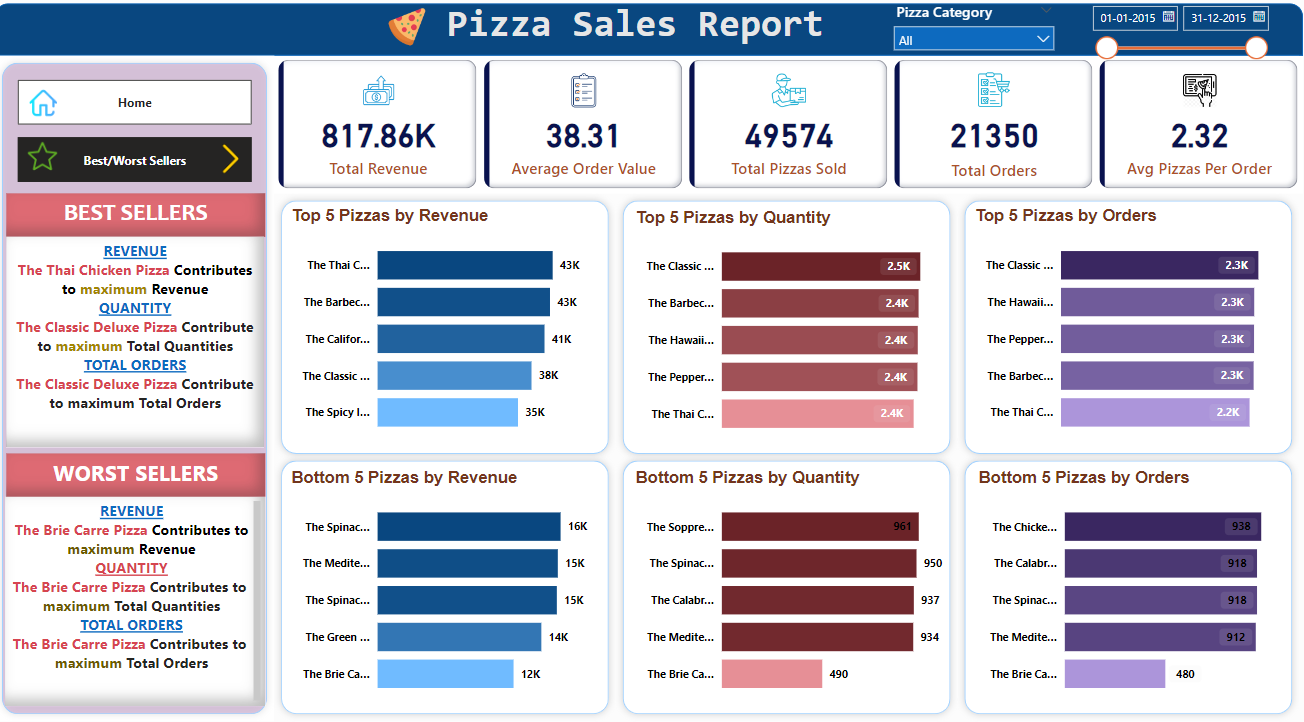

What the dashboard file says about the page in this screenshot:
{"tool":"powerbi","page":{"name":"Best/Worst Sellers","canvas":[1500,820],"ordinal":1},"visuals":[{"type":"cardVisual","fields":{"Data":["pizza_sales.Total Revenue","pizza_sales.Average Order Value","pizza_sales.Total Pizzas Sold","pizza_sales.Total Orders","pizza_sales.Avg Pizzas Per Order"]},"box":[332.9,65.7,1152.9,154.3],"z":0},{"type":"shape","box":[20,7.1,1465.7,58.6],"z":1000},{"type":"textbox","box":[521.3,0,463.9,65.6],"z":2000},{"type":"image","box":[442.6,6.6,77,52.5],"z":3000},{"type":"shape","box":[332.9,220,383,300],"z":4000},{"type":"shape","box":[20,65.7,312.9,745.7],"z":5000},{"type":"textbox","box":[32.9,220,290,48.6],"z":6000},{"type":"textbox","box":[32.9,511.4,290,48.6],"z":7000},{"type":"textbox","box":[32.9,268.6,288.6,235.7],"z":8000},{"type":"textbox","box":[31.4,560,291.4,234.3],"z":9000},{"type":"slicer","fields":{"Values":["pizza_sales.order_date"]},"box":[1237.1,0,217.1,75.7],"z":10000},{"type":"slicer","fields":{"Values":["pizza_sales.pizza_category"]},"box":[1017.1,0,200,65.7],"z":11000},{"type":"shape","box":[332.9,511.4,383,300],"z":12000},{"type":"shape","box":[715.7,220,383,300],"z":13000},{"type":"shape","box":[1098.6,220,383,300],"z":14000},{"type":"shape","box":[715.7,511.4,383,300],"z":15000},{"type":"shape","box":[1098.6,511.4,383,300],"z":16000},{"type":"clusteredBarChart","title":"Top 5 Pizzas by Revenue","fields":{"Y":["pizza_sales.Total Revenue"],"Category":["pizza_sales.pizza_name"]},"box":[347.1,234.3,354.3,270],"z":17000},{"type":"clusteredBarChart","title":"Bottom 5 Pizzas by Revenue","fields":{"Y":["pizza_sales.Total Revenue"],"Category":["pizza_sales.pizza_name"]},"box":[347.1,527.1,354.3,270],"z":18000},{"type":"clusteredBarChart","title":"Top 5 Pizzas by Quantity","fields":{"Category":["pizza_sales.pizza_name"],"Y":["Sum(pizza_sales.quantity)"]},"box":[732.9,235.7,354.3,270],"z":19000},{"type":"clusteredBarChart","title":"Top 5 Pizzas by Orders","fields":{"Category":["pizza_sales.pizza_name"],"Y":["pizza_sales.Total Orders"]},"box":[1112.9,234.3,354.3,270],"z":20000},{"type":"clusteredBarChart","title":"Bottom 5 Pizzas by Quantity","fields":{"Category":["pizza_sales.pizza_name"],"Y":["Sum(pizza_sales.quantity)"]},"box":[732.9,527.1,354.3,270],"z":21000},{"type":"clusteredBarChart","title":"Bottom 5 Pizzas by Orders","fields":{"Y":["pizza_sales.Total Orders"],"Category":["pizza_sales.pizza_name"]},"box":[1117.1,527.1,354.3,270],"z":22000},{"type":"pageNavigator","box":[45.7,157.1,262.9,50],"z":22001},{"type":"pageNavigator","box":[45.7,92.9,262.9,50],"z":22002},{"type":"image","box":[260,160,48.6,42.9],"z":22003},{"type":"image","box":[54.3,97.1,40,42.9],"z":22004},{"type":"image","box":[51.4,157.1,44.3,42.9],"z":22005}]}

Visuals, with their boxes in screenshot pixels (x1, y1, x2, y2), scaled from the page's 1500x820 canvas onto the 1304x722 screenshot:
cardVisual - pizza_sales.Total Revenue x pizza_sales.Average Order Value: bbox=[289, 58, 1292, 194]
shape: bbox=[17, 6, 1292, 58]
textbox: bbox=[453, 0, 856, 58]
image: bbox=[385, 6, 452, 52]
shape: bbox=[289, 194, 622, 458]
shape: bbox=[17, 58, 289, 714]
textbox: bbox=[29, 194, 281, 236]
textbox: bbox=[29, 450, 281, 493]
textbox: bbox=[29, 236, 279, 444]
textbox: bbox=[27, 493, 281, 699]
slicer - pizza_sales.order_date: bbox=[1075, 0, 1264, 67]
slicer - pizza_sales.pizza_category: bbox=[884, 0, 1058, 58]
shape: bbox=[289, 450, 622, 714]
shape: bbox=[622, 194, 955, 458]
shape: bbox=[955, 194, 1288, 458]
shape: bbox=[622, 450, 955, 714]
shape: bbox=[955, 450, 1288, 714]
"Top 5 Pizzas by Revenue" clusteredBarChart: bbox=[302, 206, 610, 444]
"Bottom 5 Pizzas by Revenue" clusteredBarChart: bbox=[302, 464, 610, 702]
"Top 5 Pizzas by Quantity" clusteredBarChart: bbox=[637, 208, 945, 445]
"Top 5 Pizzas by Orders" clusteredBarChart: bbox=[967, 206, 1275, 444]
"Bottom 5 Pizzas by Quantity" clusteredBarChart: bbox=[637, 464, 945, 702]
"Bottom 5 Pizzas by Orders" clusteredBarChart: bbox=[971, 464, 1279, 702]
pageNavigator: bbox=[40, 138, 268, 182]
pageNavigator: bbox=[40, 82, 268, 126]
image: bbox=[226, 141, 268, 179]
image: bbox=[47, 85, 82, 123]
image: bbox=[45, 138, 83, 176]
